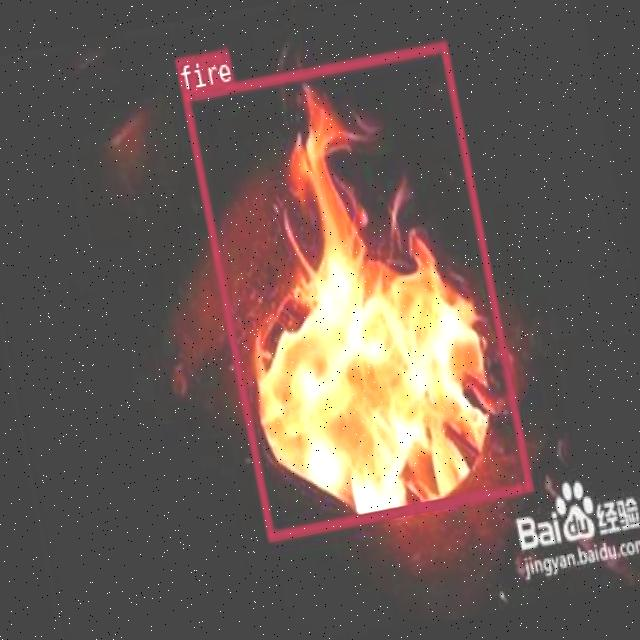fire: (181, 41, 532, 539)
